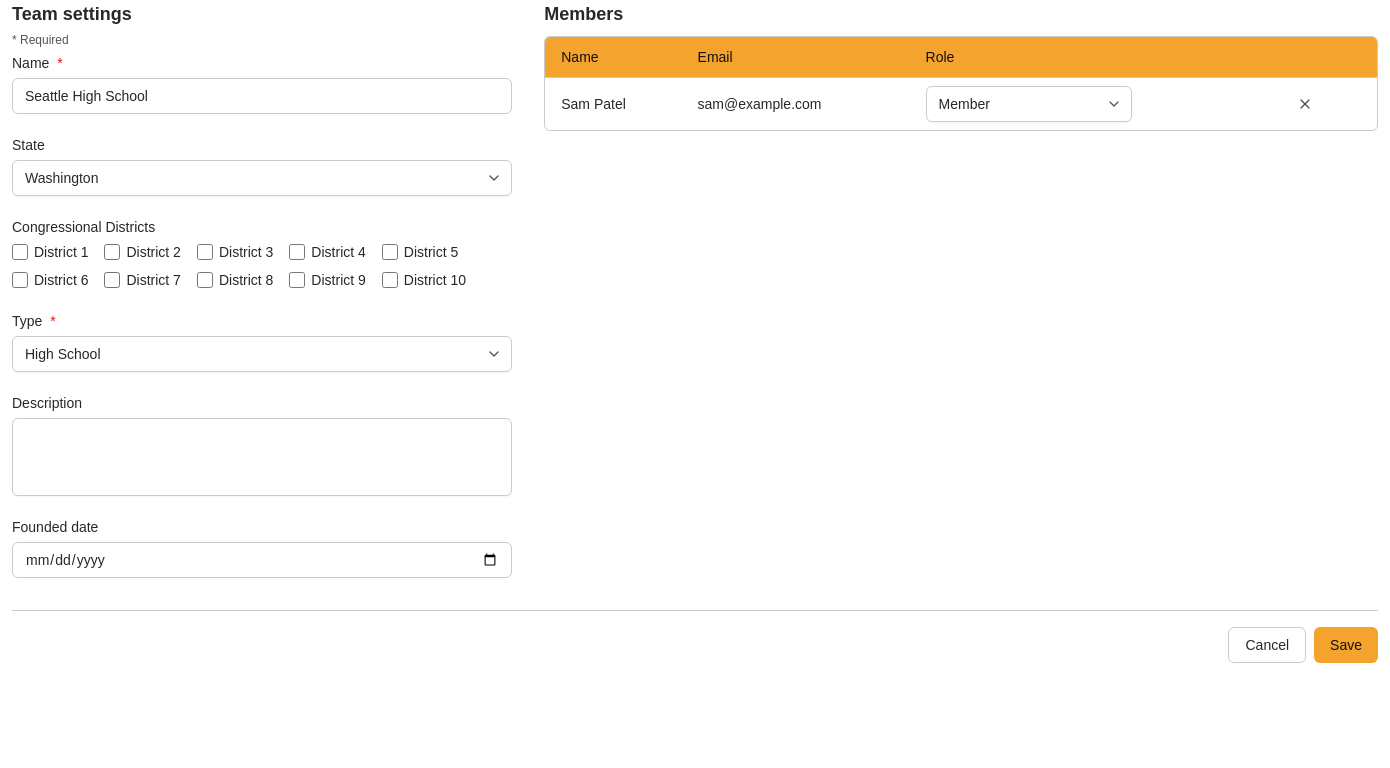
Test: EditTeamForm — Save commits members and team fields together › surfaces an error and does not navigate when a member change fails
Click the button named "Remove Sam Patel" at coordinates (1305, 104), box [1287,88,1323,120]
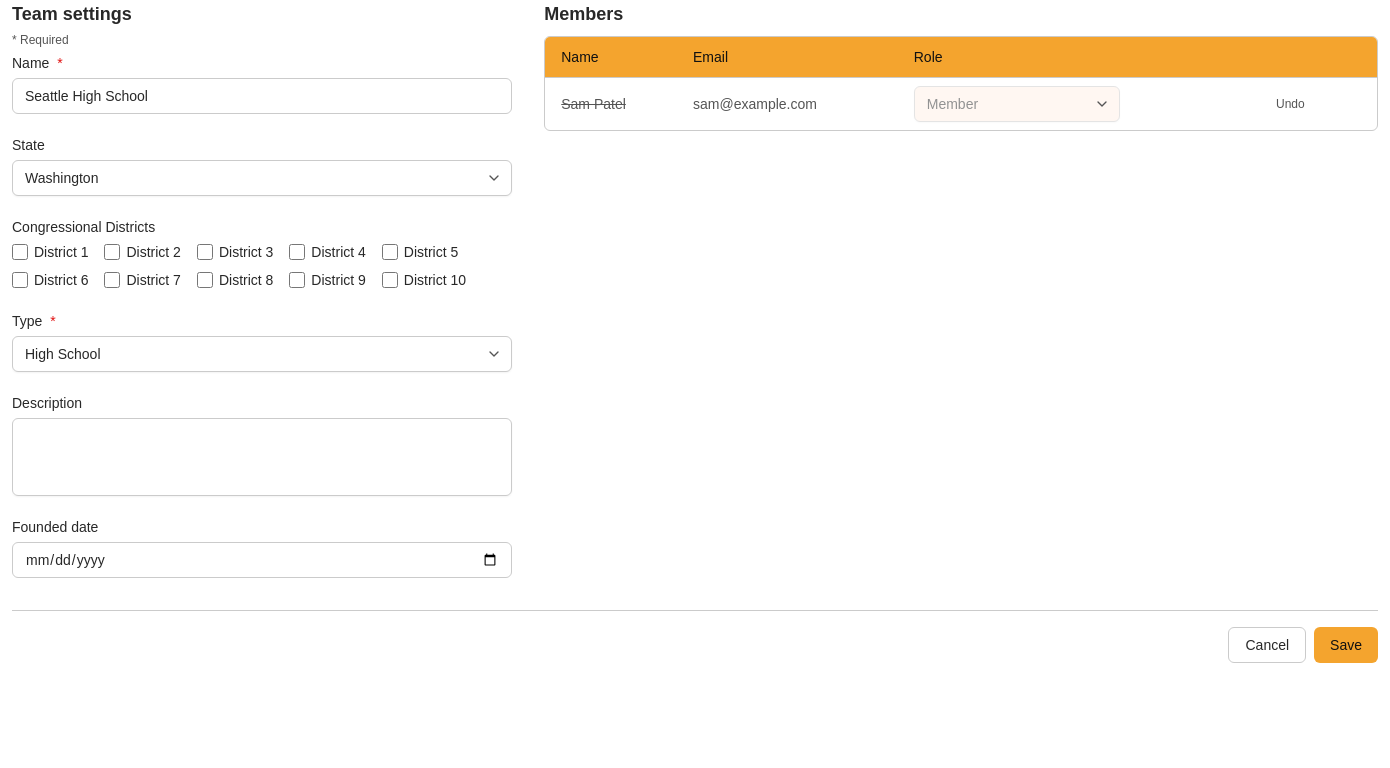
Click the button "Save" at coordinates (1346, 645), box [1314,627,1378,663]
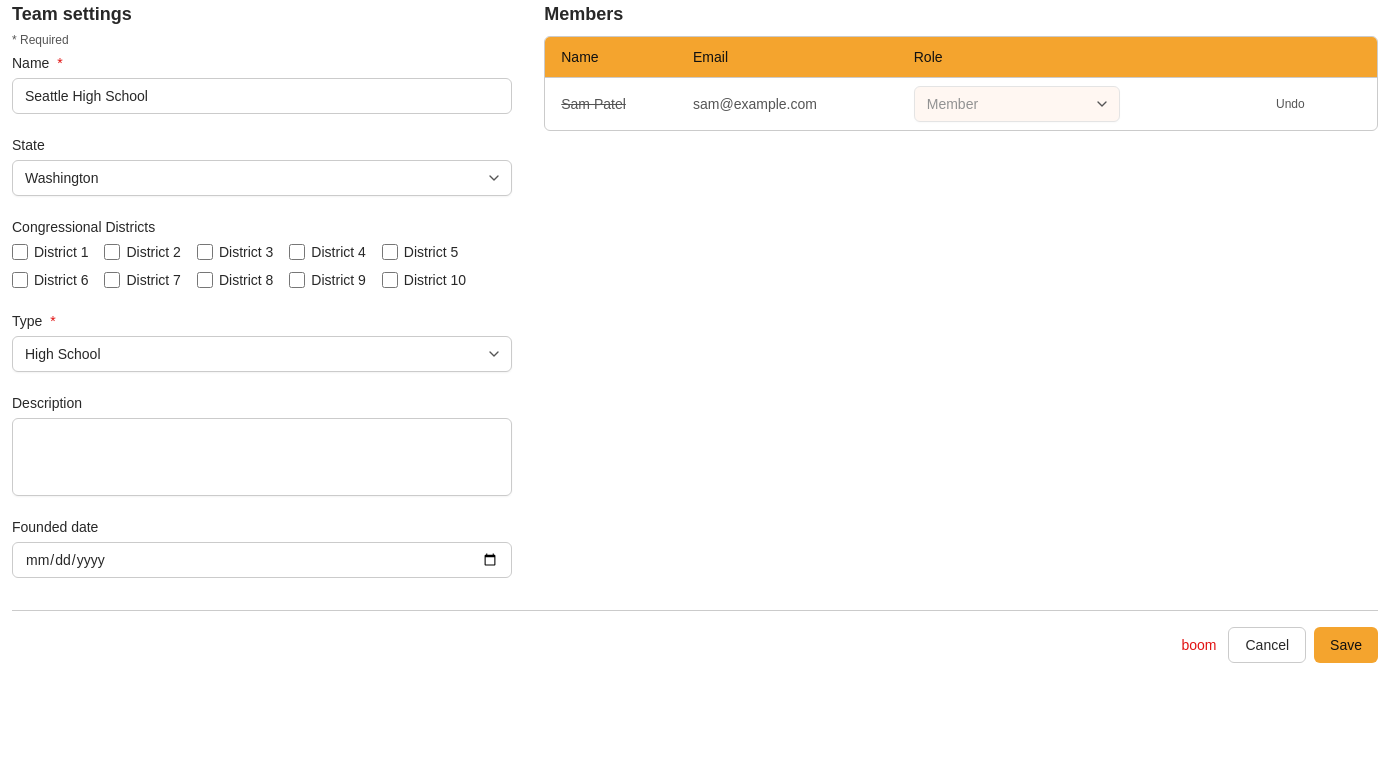
Check: the message reads "boom", box [1182,637,1216,653]
